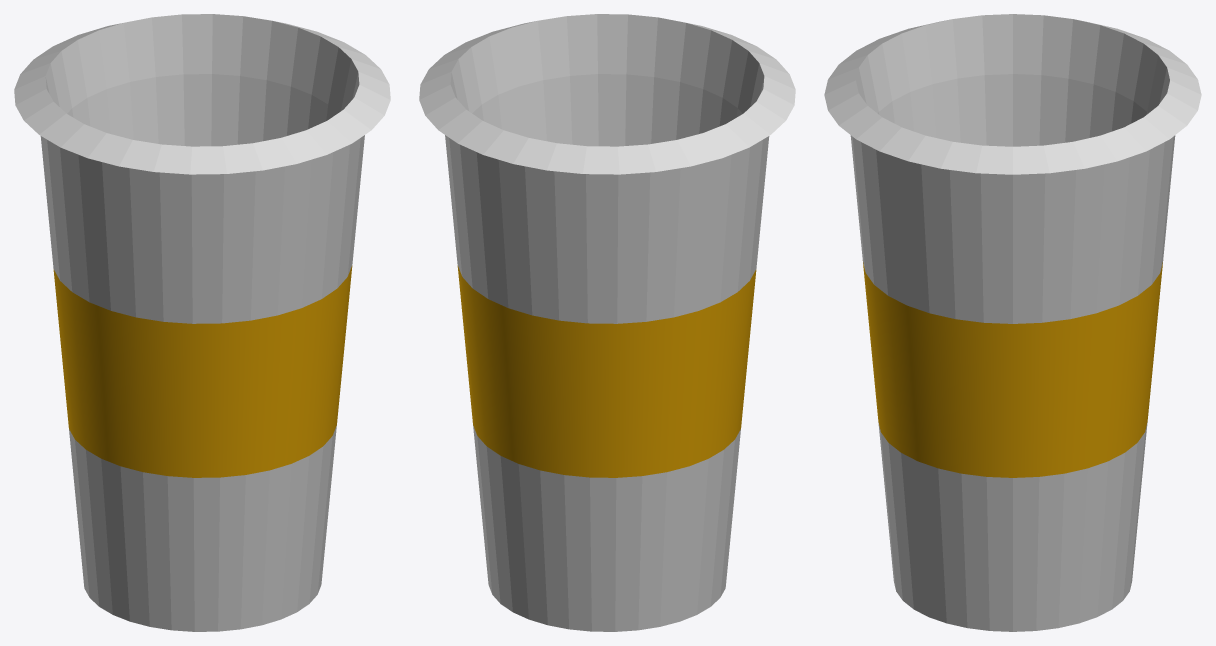
File: BigGobeletJaune.fbx
3 views of the same model, side by side, from view 1: azimuth 30°, elevation 25°; view 2: azimuth 150°, elevation 25°; view 3: azimuth 270°, elevation 25° (orthographic).
Visible parts, largest first — view 1: Circle, Circle.001; view 2: Circle, Circle.001; view 3: Circle, Circle.001.
Part boxes in pixels (x1,y1,x2,y2): Circle: (14, 14, 390, 631); Circle.001: (53, 265, 352, 477); Circle: (419, 14, 795, 631); Circle.001: (457, 265, 756, 477); Circle: (824, 14, 1201, 631); Circle.001: (863, 262, 1162, 477).
Size of the model in its own units: 317 by 464 by 317.
